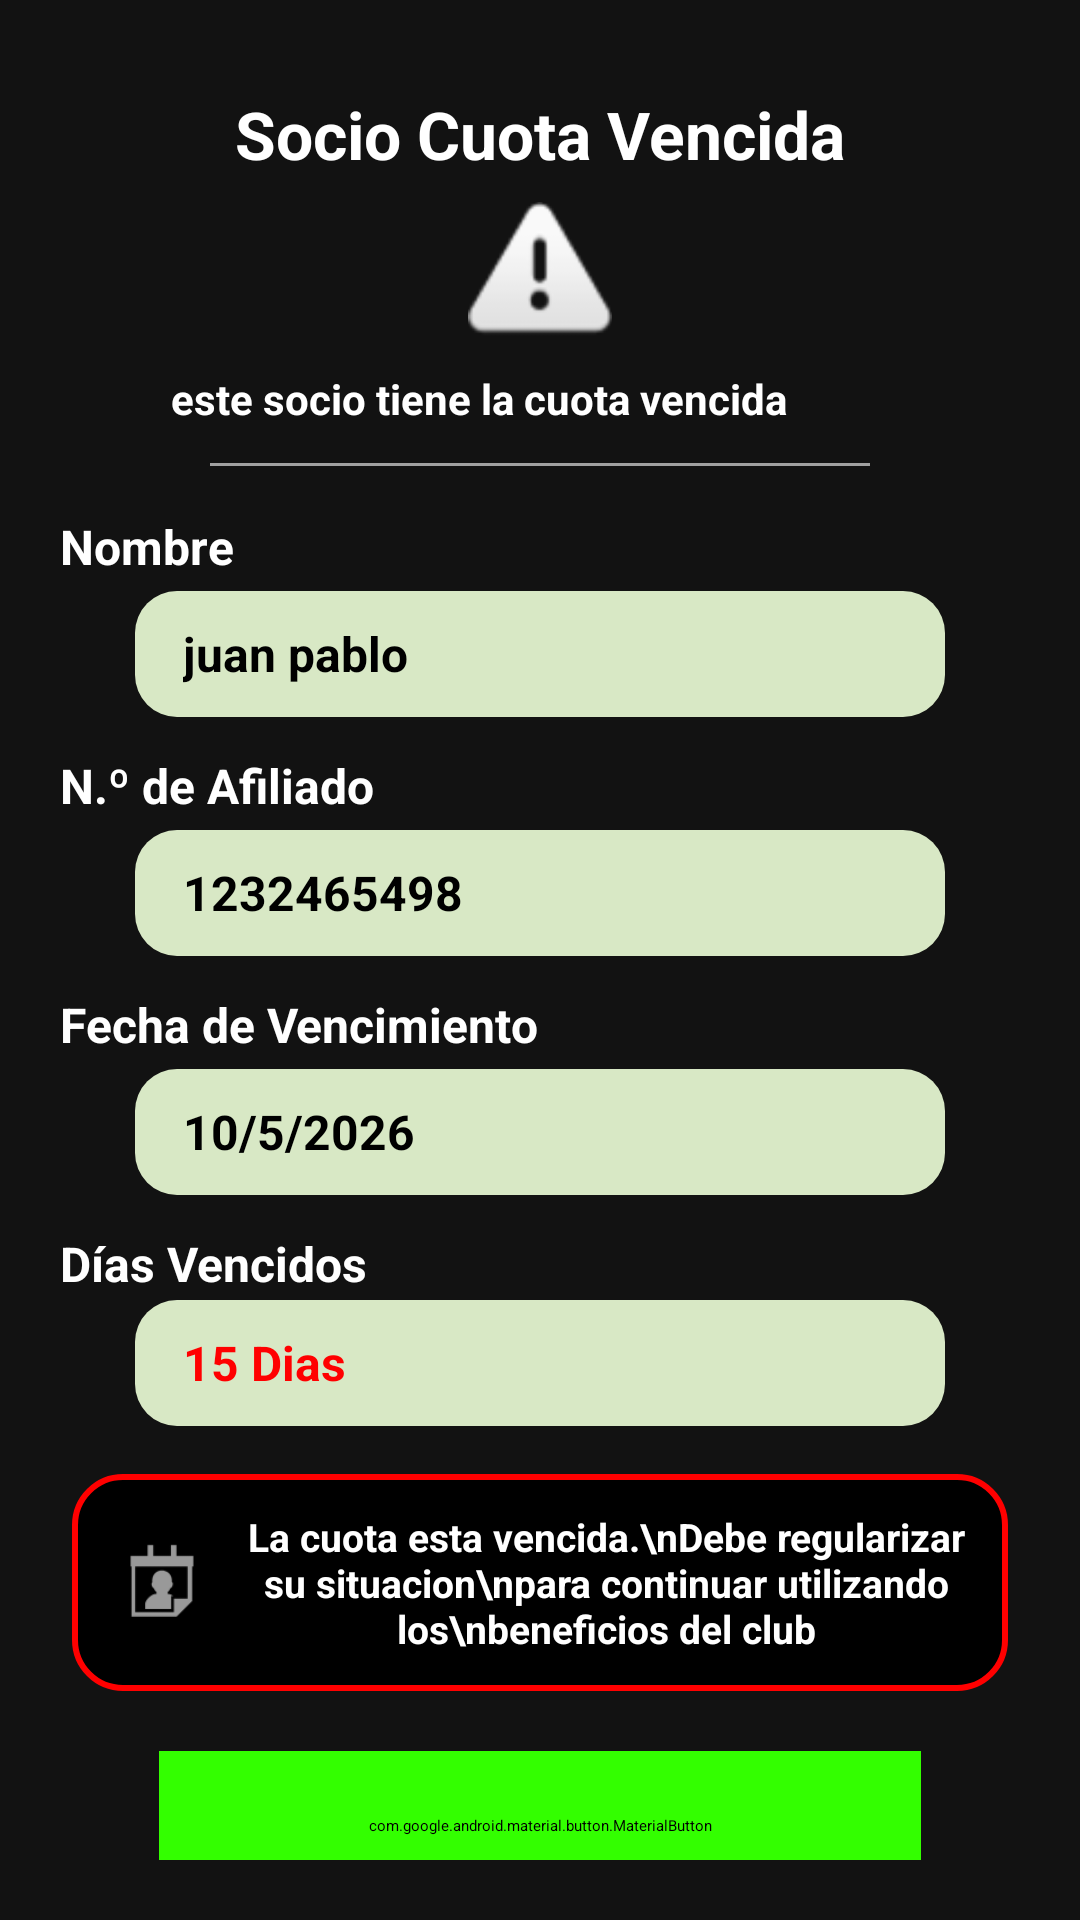

Named icons in this screenshot (1080x1920) and their centers, point (x, y):
Alerta: point (540, 267)
Calendario Alerta: point (162, 1581)
